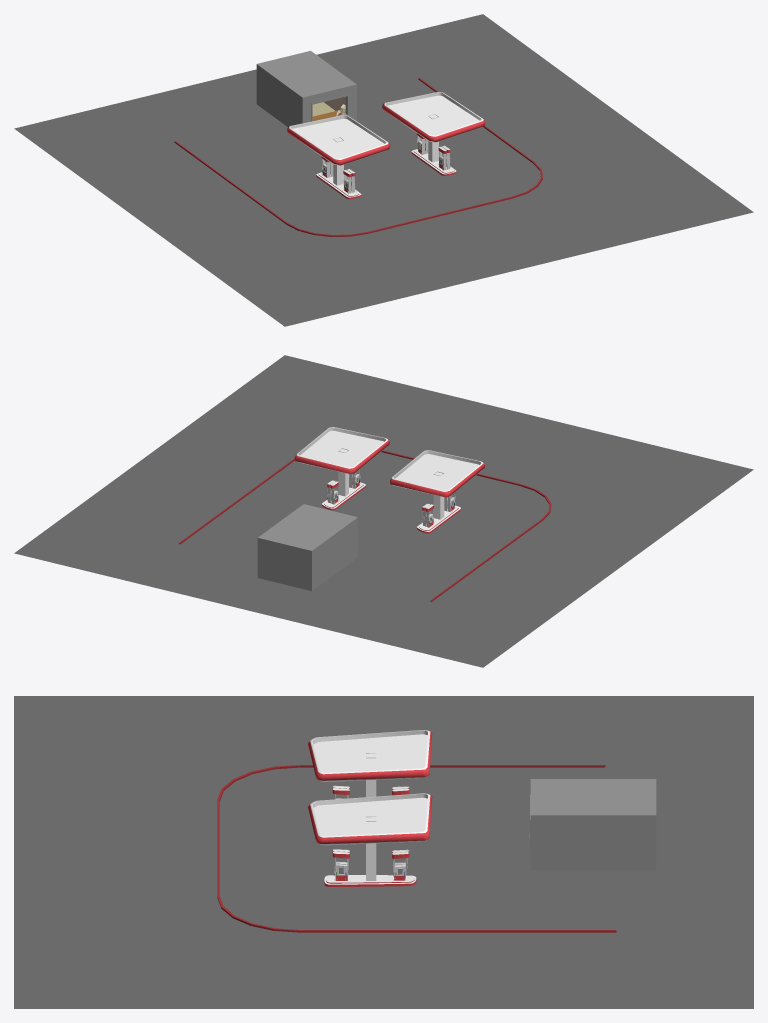
File: azs.fbx
3 views of the same model, one above another, from view 1: azimuth 30°, elevation 25°; view 2: azimuth 150°, elevation 25°; view 3: azimuth 270°, elevation 25° (orthographic). The views are drawn at different scales.
Visible parts, largest first — view 1: Plane, Cube, Gas_Pumps.003, Gas_Pumps.001, Plane.012; view 2: Plane, Cube, Gas_Pumps.001, Gas_Pumps.003, Plane.012; view 3: Plane, Cube, Gas_Pumps.003, Gas_Pumps.001, Plane.012.
Part boxes in pixels (bbox=[...]): Plane: bbox=[14, 14, 753, 326]; Cube: bbox=[256, 50, 356, 126]; Gas_Pumps.003: bbox=[382, 92, 485, 175]; Gas_Pumps.001: bbox=[287, 115, 390, 199]; Plane.012: bbox=[174, 78, 542, 236]; Plane: bbox=[14, 355, 753, 667]; Cube: bbox=[257, 504, 357, 590]; Gas_Pumps.001: bbox=[390, 450, 485, 533]; Gas_Pumps.003: bbox=[294, 427, 389, 510]; Plane.012: bbox=[178, 450, 551, 601]; Plane: bbox=[14, 696, 753, 1008]; Cube: bbox=[530, 779, 656, 870]; Gas_Pumps.003: bbox=[308, 793, 432, 886]; Gas_Pumps.001: bbox=[308, 730, 432, 799]; Plane.012: bbox=[217, 765, 616, 932].
Bounding box in the file's own units: 10000 × 1045 × 10000.
